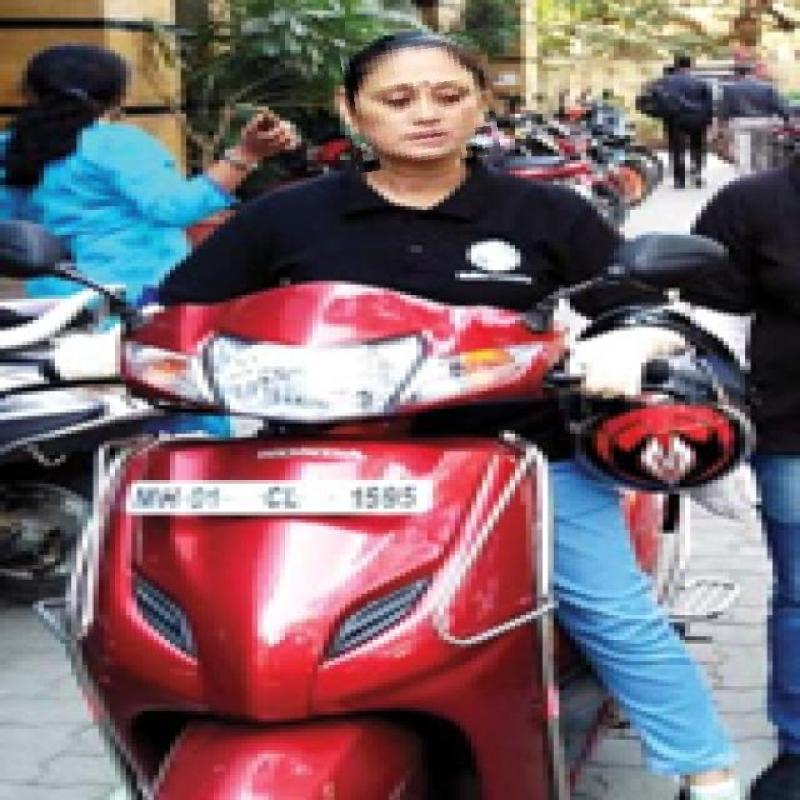nohelmet: (344, 32, 497, 169)
